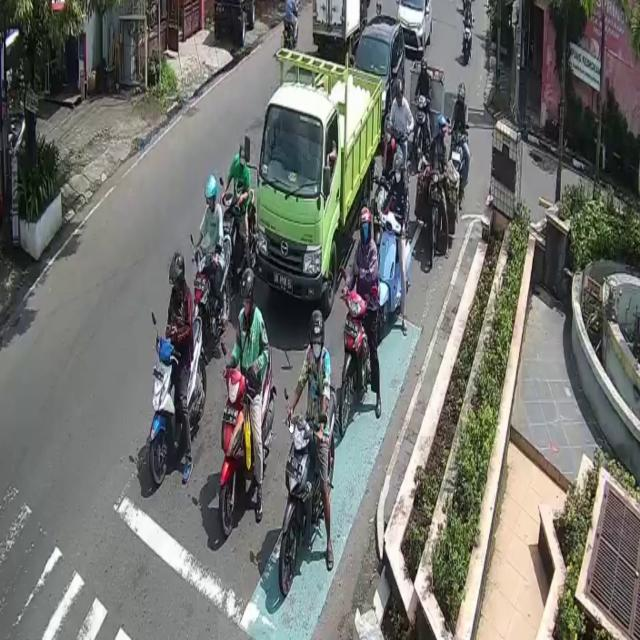car: (351, 14, 406, 142), (399, 0, 435, 57)
motorbike: (279, 383, 339, 596), (148, 313, 208, 488), (221, 349, 276, 537), (339, 294, 380, 434), (190, 234, 233, 344), (376, 210, 409, 334), (221, 190, 256, 278), (428, 165, 447, 264), (414, 93, 431, 168), (448, 133, 467, 195), (283, 6, 299, 54), (463, 20, 472, 68)
truck: (256, 45, 384, 313), (310, 0, 368, 55)
